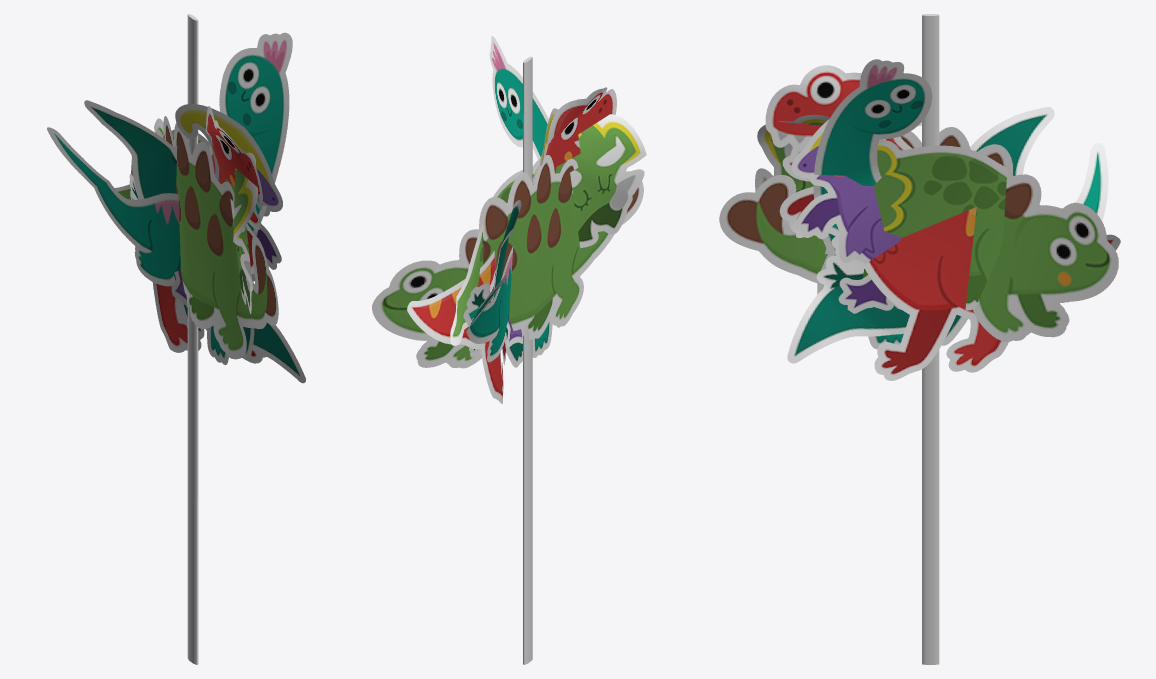
The model's file is Targets and ksilaki.fbx.
The picture shows the model from 3 angles, left to right: view 1: azimuth 30°, elevation 25°; view 2: azimuth 150°, elevation 25°; view 3: azimuth 270°, elevation 25°; orthographic projection. The views are drawn at different scales.
Parts seen in each view (by area): view 1: For target.017, Cube.009, For target.001, ksilaki, For target.016, For target.006, For target.002; view 2: Cube.009, For target.002, For target.016, For target.017, ksilaki, For target.001, For target.006; view 3: Cube.009, For target.016, For target.002, For target.017, For target.001, For target.006, ksilaki.
Part boxes in pixels (bbox=[...]): For target.017: bbox=[47, 32, 292, 364]; Cube.009: bbox=[154, 116, 278, 359]; For target.001: bbox=[84, 100, 305, 383]; ksilaki: bbox=[187, 14, 198, 664]; For target.016: bbox=[131, 106, 268, 363]; For target.006: bbox=[171, 104, 282, 307]; For target.002: bbox=[115, 129, 258, 313]; Cube.009: bbox=[372, 155, 643, 368]; For target.002: bbox=[450, 114, 646, 354]; For target.016: bbox=[407, 87, 616, 403]; For target.017: bbox=[466, 36, 552, 367]; ksilaki: bbox=[523, 56, 532, 664]; For target.001: bbox=[463, 200, 521, 357]; For target.006: bbox=[490, 108, 557, 347]; Cube.009: bbox=[719, 127, 1118, 341]; For target.016: bbox=[765, 65, 1120, 380]; For target.002: bbox=[755, 114, 1007, 310]; For target.017: bbox=[813, 59, 1108, 349]; For target.001: bbox=[787, 107, 1054, 363]; For target.006: bbox=[791, 119, 921, 313]; ksilaki: bbox=[922, 14, 939, 664].
Bounding box in the file's own units: 0.3948 × 1.41 × 0.8604.
